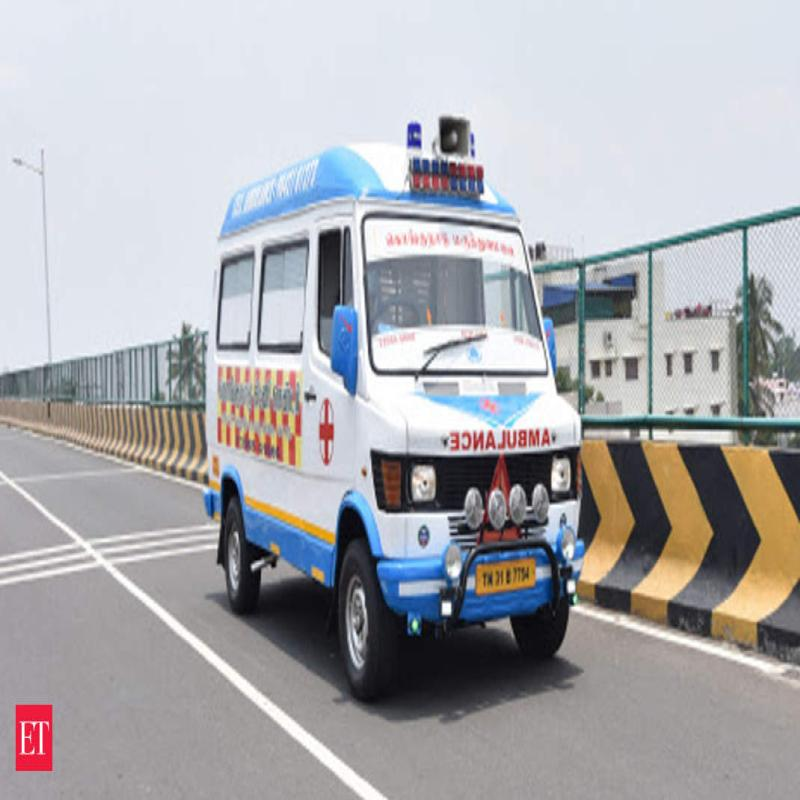ambulance: (215, 181, 576, 694)
